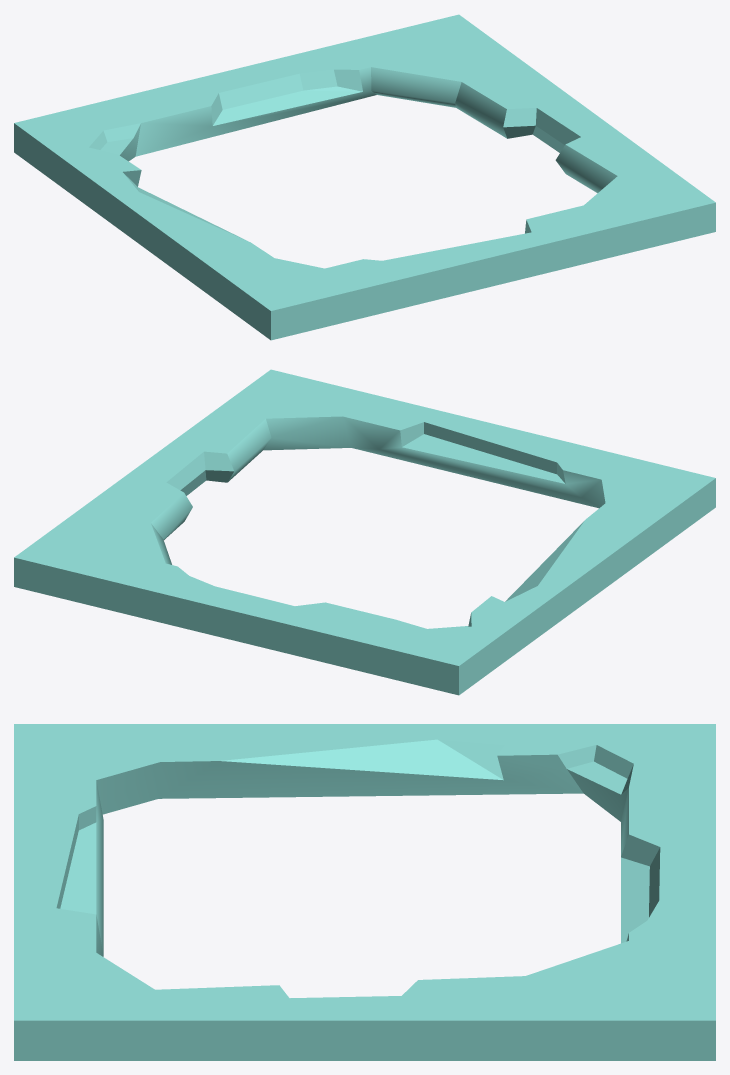
File: DinerRoofTileRuined_Collision.fbx
The picture shows the model from 3 angles, top to bottom: view 1: azimuth 30°, elevation 25°; view 2: azimuth 150°, elevation 25°; view 3: azimuth 270°, elevation 25°; orthographic projection. The views are drawn at different scales.
Visible parts, largest first — view 1: DinerRoofTileRuined_Collision; view 2: DinerRoofTileRuined_Collision; view 3: DinerRoofTileRuined_Collision.
Part boxes in pixels (bbox=[...]): DinerRoofTileRuined_Collision: bbox=[14, 14, 715, 340]; DinerRoofTileRuined_Collision: bbox=[14, 369, 715, 695]; DinerRoofTileRuined_Collision: bbox=[14, 724, 715, 1060].
Size of the model in its own units: 3.52 by 0.2218 by 3.52.
